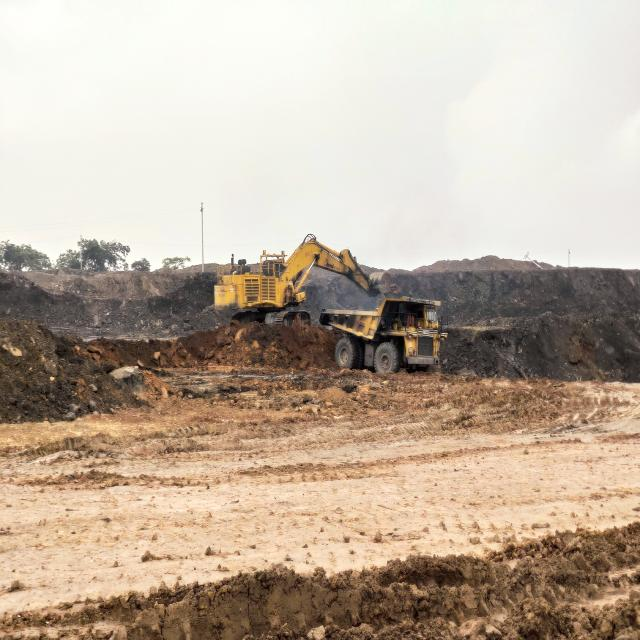dump_truck: (310, 296, 451, 377)
excavator: (210, 230, 401, 328)
